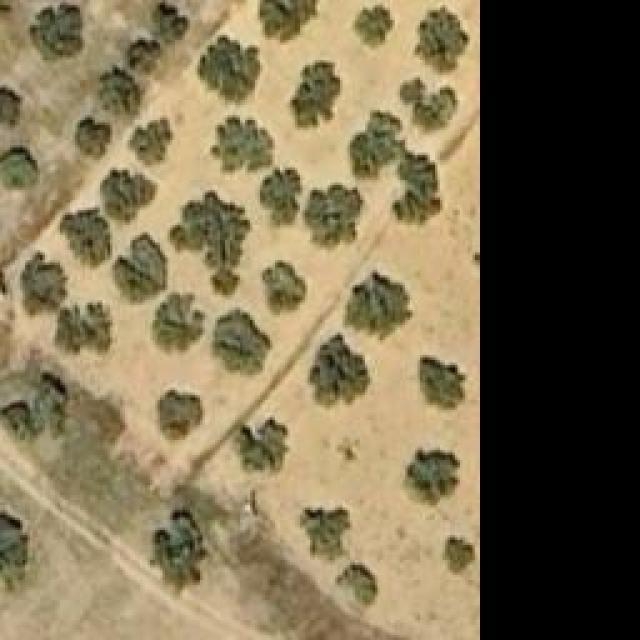Tree: (350, 110, 440, 225), (170, 190, 248, 295), (345, 272, 413, 340), (150, 513, 210, 588), (200, 38, 263, 103), (210, 310, 273, 375), (285, 60, 343, 130), (310, 333, 368, 403), (210, 113, 273, 176), (305, 185, 363, 248), (228, 417, 291, 475), (415, 8, 470, 73), (113, 235, 166, 300), (150, 298, 205, 358), (400, 78, 458, 133), (405, 445, 458, 505), (60, 208, 113, 268), (30, 2, 83, 60), (307, 365, 375, 410), (55, 303, 110, 356), (418, 355, 468, 413), (20, 250, 65, 313), (103, 168, 156, 221), (155, 390, 205, 445), (300, 508, 350, 563), (263, 260, 308, 318), (0, 510, 30, 593), (260, 0, 315, 42), (260, 170, 300, 225), (100, 64, 143, 115), (128, 117, 173, 165), (0, 145, 40, 190), (353, 3, 393, 48), (335, 565, 378, 605), (125, 35, 165, 73), (150, 0, 185, 42), (0, 402, 42, 435), (75, 117, 110, 155), (32, 373, 70, 403), (0, 82, 22, 127), (448, 535, 473, 568)
